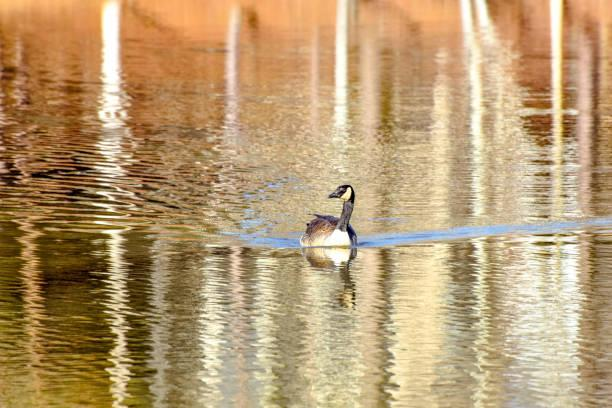Canadian-Goose: (301, 181, 362, 250)
